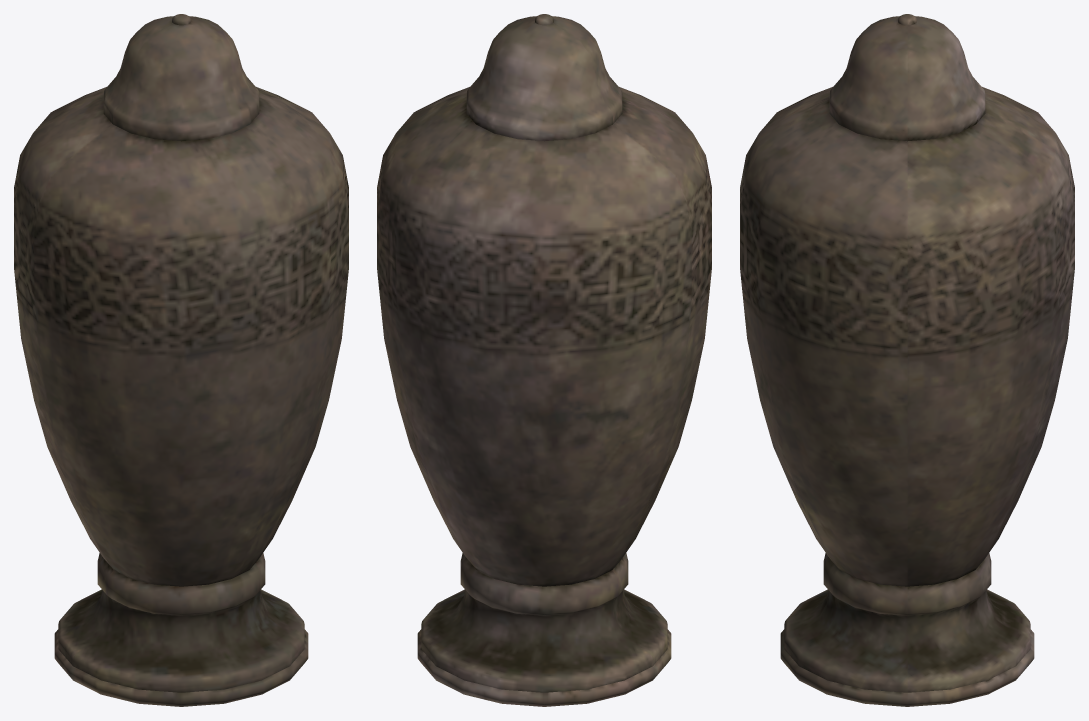
File: SM_urn_09.fbx
The picture shows the model from 3 angles, left to right: view 1: azimuth 30°, elevation 25°; view 2: azimuth 150°, elevation 25°; view 3: azimuth 270°, elevation 25°; orthographic projection.
Visible parts, largest first — view 1: SM_urn_09; view 2: SM_urn_09; view 3: SM_urn_09.
Boxes of the visible parts, box(x1,y1,x2,y2) form: SM_urn_09: box(14, 14, 348, 706); SM_urn_09: box(377, 14, 711, 706); SM_urn_09: box(740, 14, 1074, 706).
Bounding box in the file's own units: 23.61 × 48.9 × 23.25.
